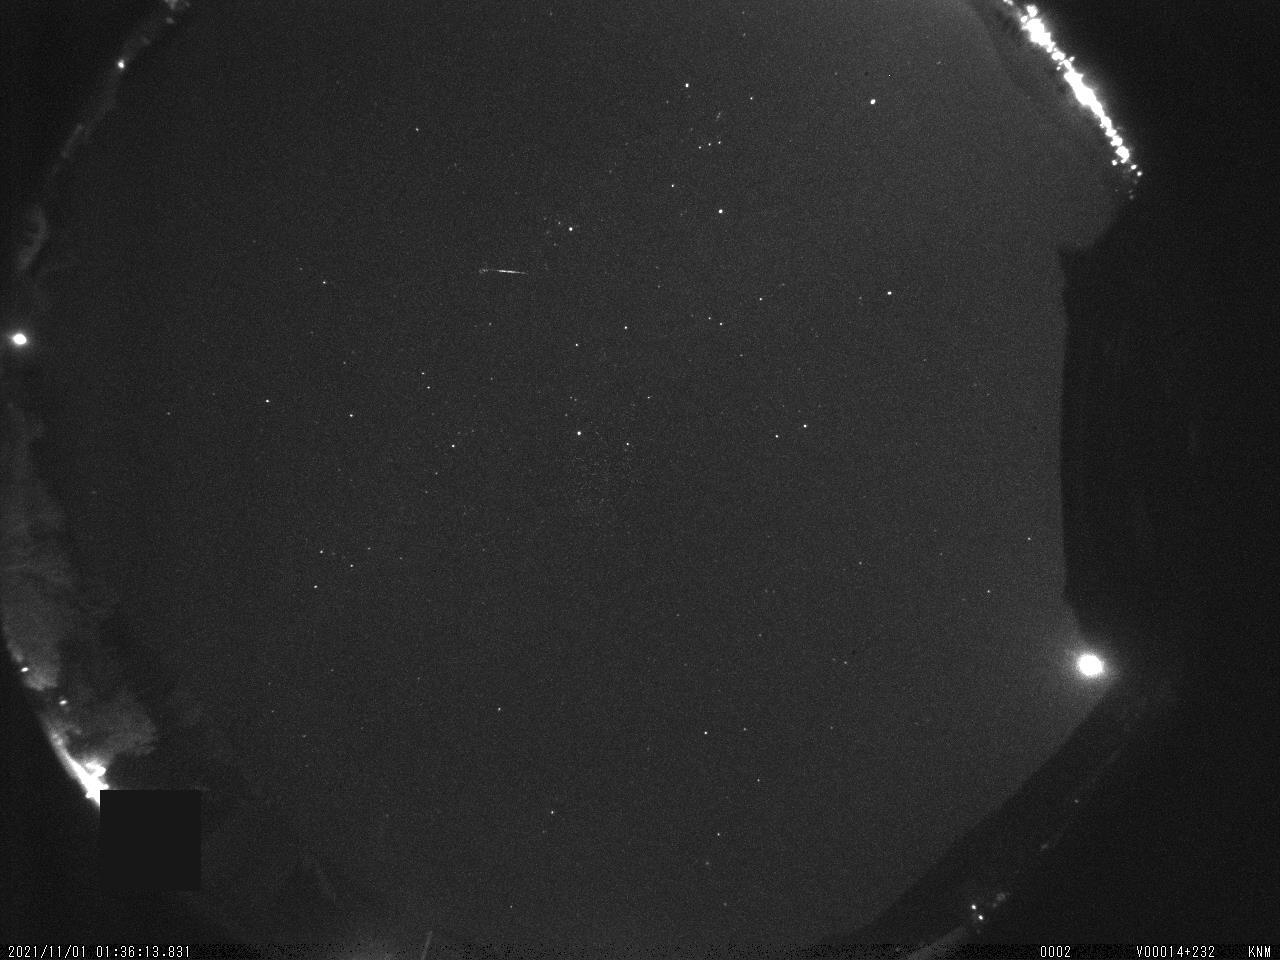meteor: (456, 260, 543, 282)
